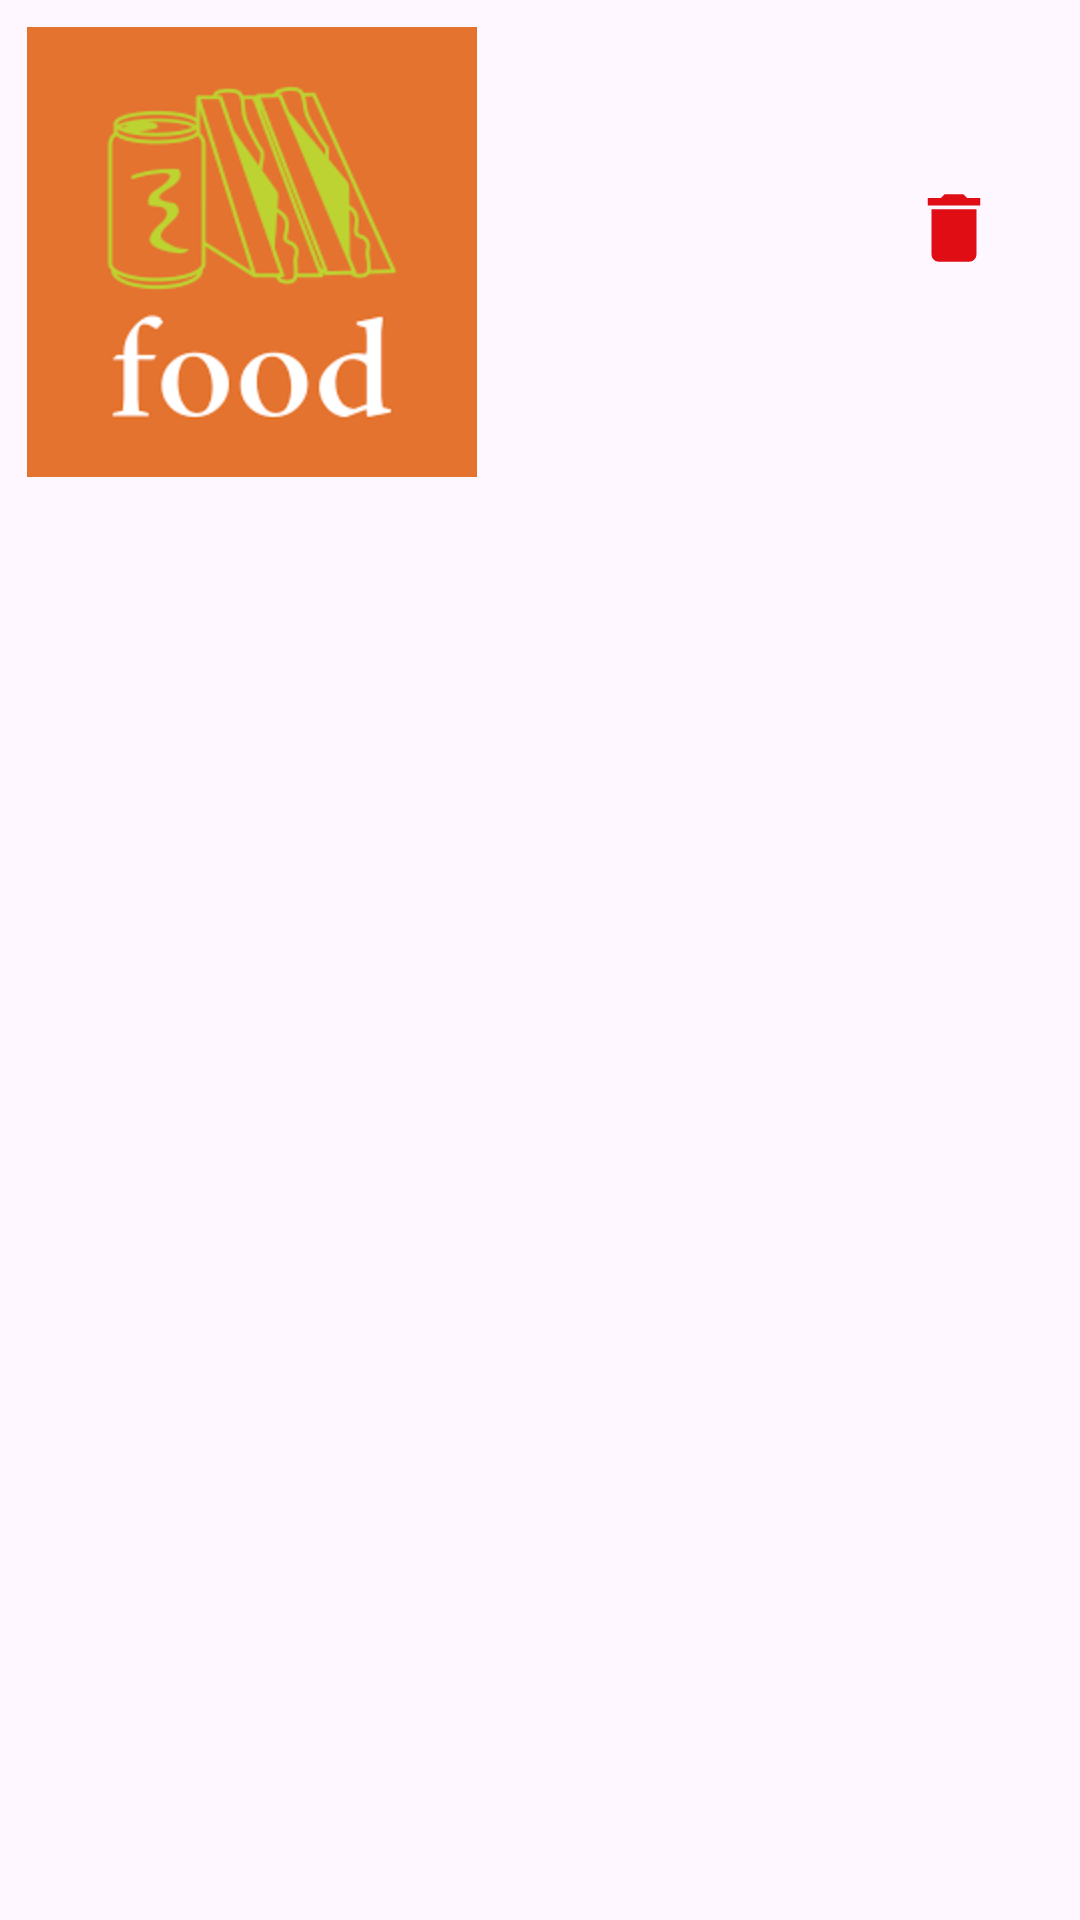

Icons on this 1080px×1920px Android screen, each with its box as (x1, y1, x2, y2):
delete: (927, 194, 981, 262)
